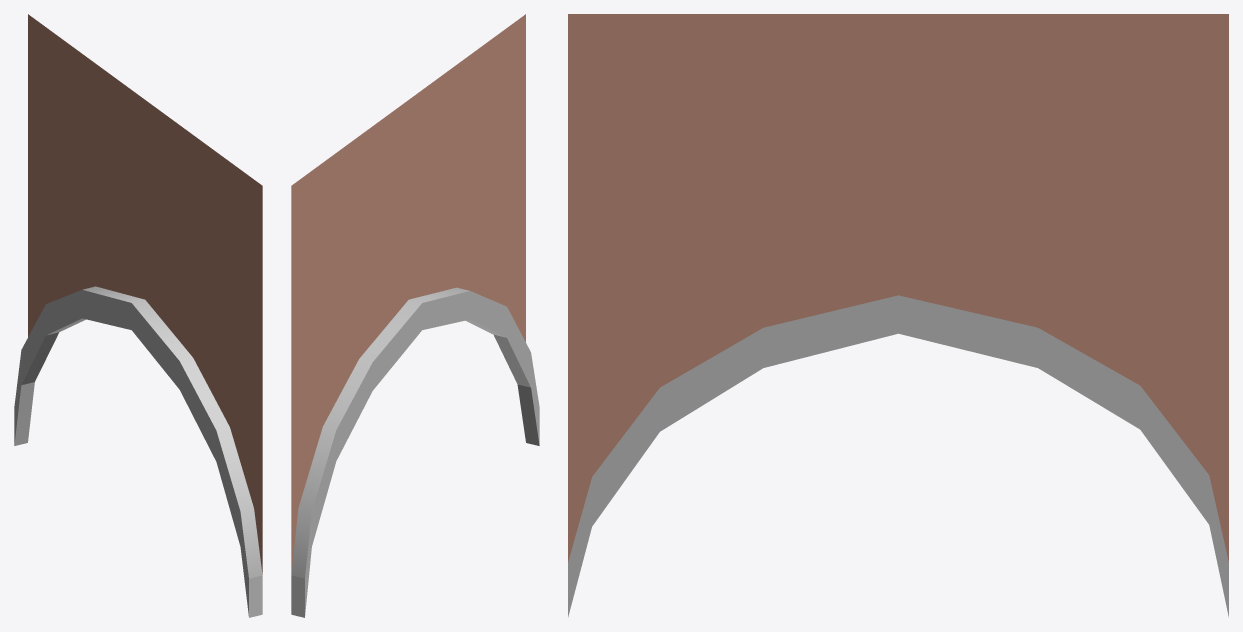
File: Wall_ToArchway.fbx
3 renders of one model, left to right at view 1: azimuth 30°, elevation 25°; view 2: azimuth 150°, elevation 25°; view 3: azimuth 270°, elevation 25°, orthographic. The views are drawn at different scales.
Parts seen in each view (by area): view 1: Wall_ToArchway; view 2: Wall_ToArchway; view 3: Wall_ToArchway.
Boxes of the visible parts, x1,y1,x2,y2 form: Wall_ToArchway: (14, 14, 262, 617); Wall_ToArchway: (291, 14, 539, 617); Wall_ToArchway: (568, 14, 1228, 617).
Bounding box in the file's own units: 6.67 × 202 × 200.
